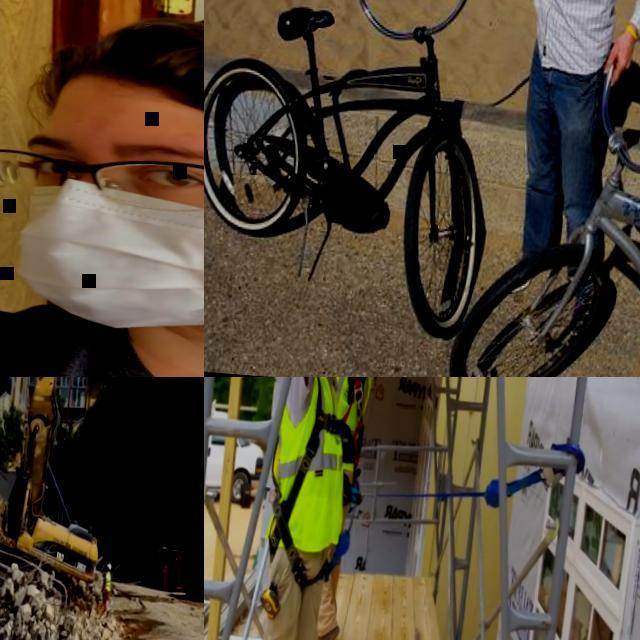helmet: (107, 564, 113, 572)
vest: (267, 377, 358, 554), (523, 0, 626, 78), (326, 377, 374, 471), (105, 572, 113, 594)
